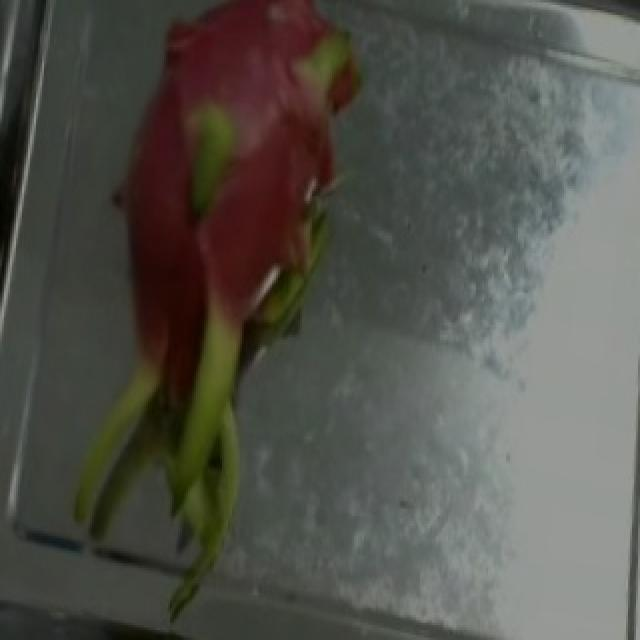fruit: (38, 2, 422, 436)
